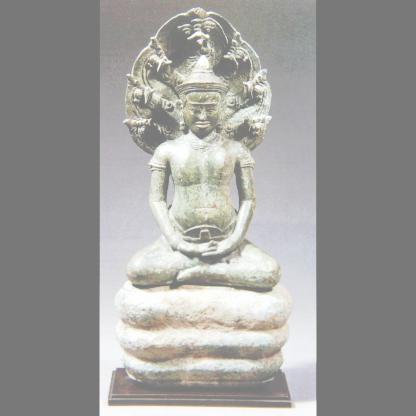buddha-sitting: (115, 6, 289, 386)
